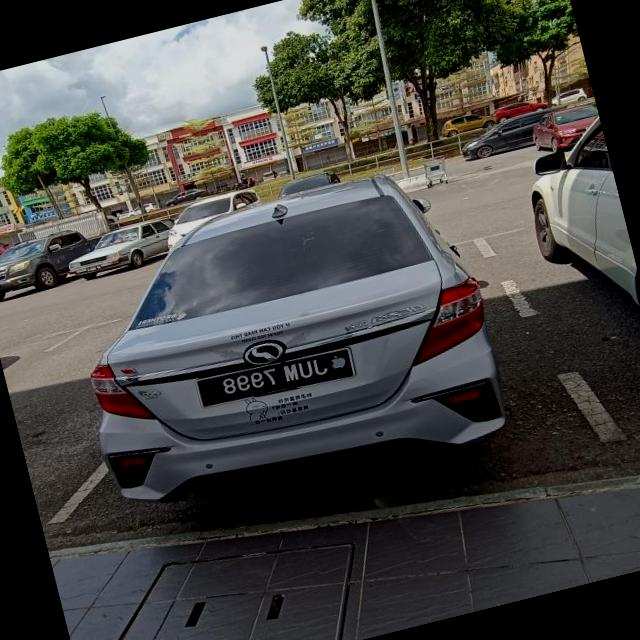PeroduaBezza: (50, 152, 518, 532)
